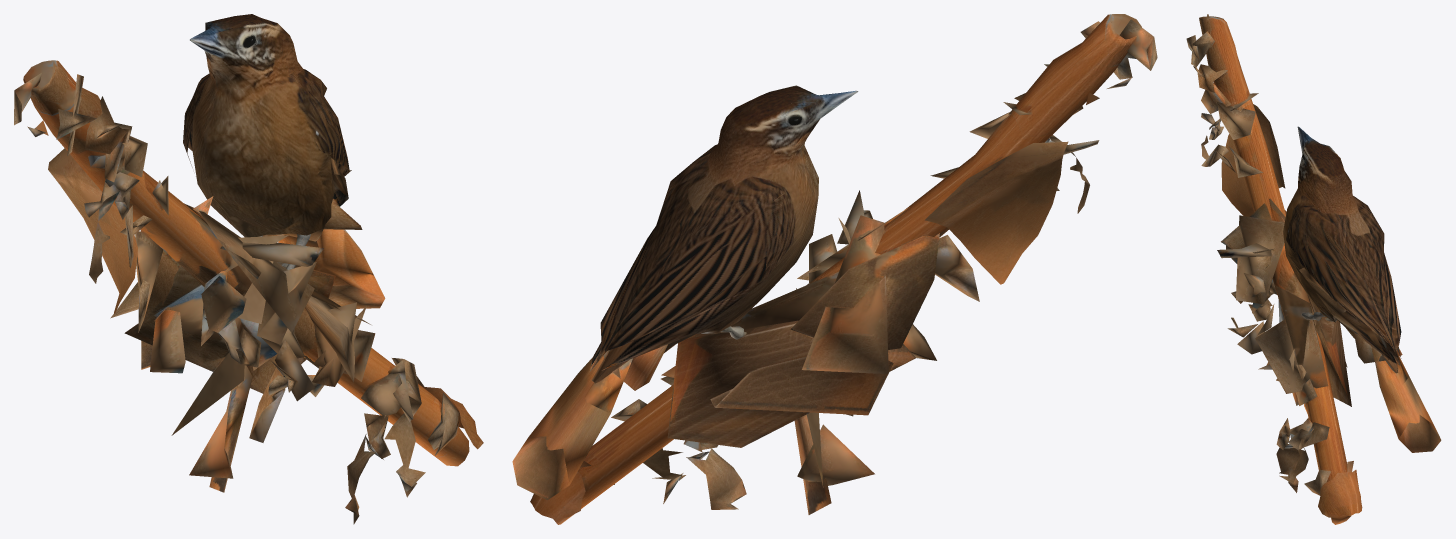
The model's file is limpa_folha_do_nordeste_med.glb.
The picture shows the model from 3 angles, left to right: view 1: azimuth 30°, elevation 25°; view 2: azimuth 150°, elevation 25°; view 3: azimuth 270°, elevation 25°; orthographic projection. The views are drawn at different scales.
Size of the model in its own units: 0.9189 by 0.9312 by 0.5952.
Materials: 1 (1 with a texture image).
